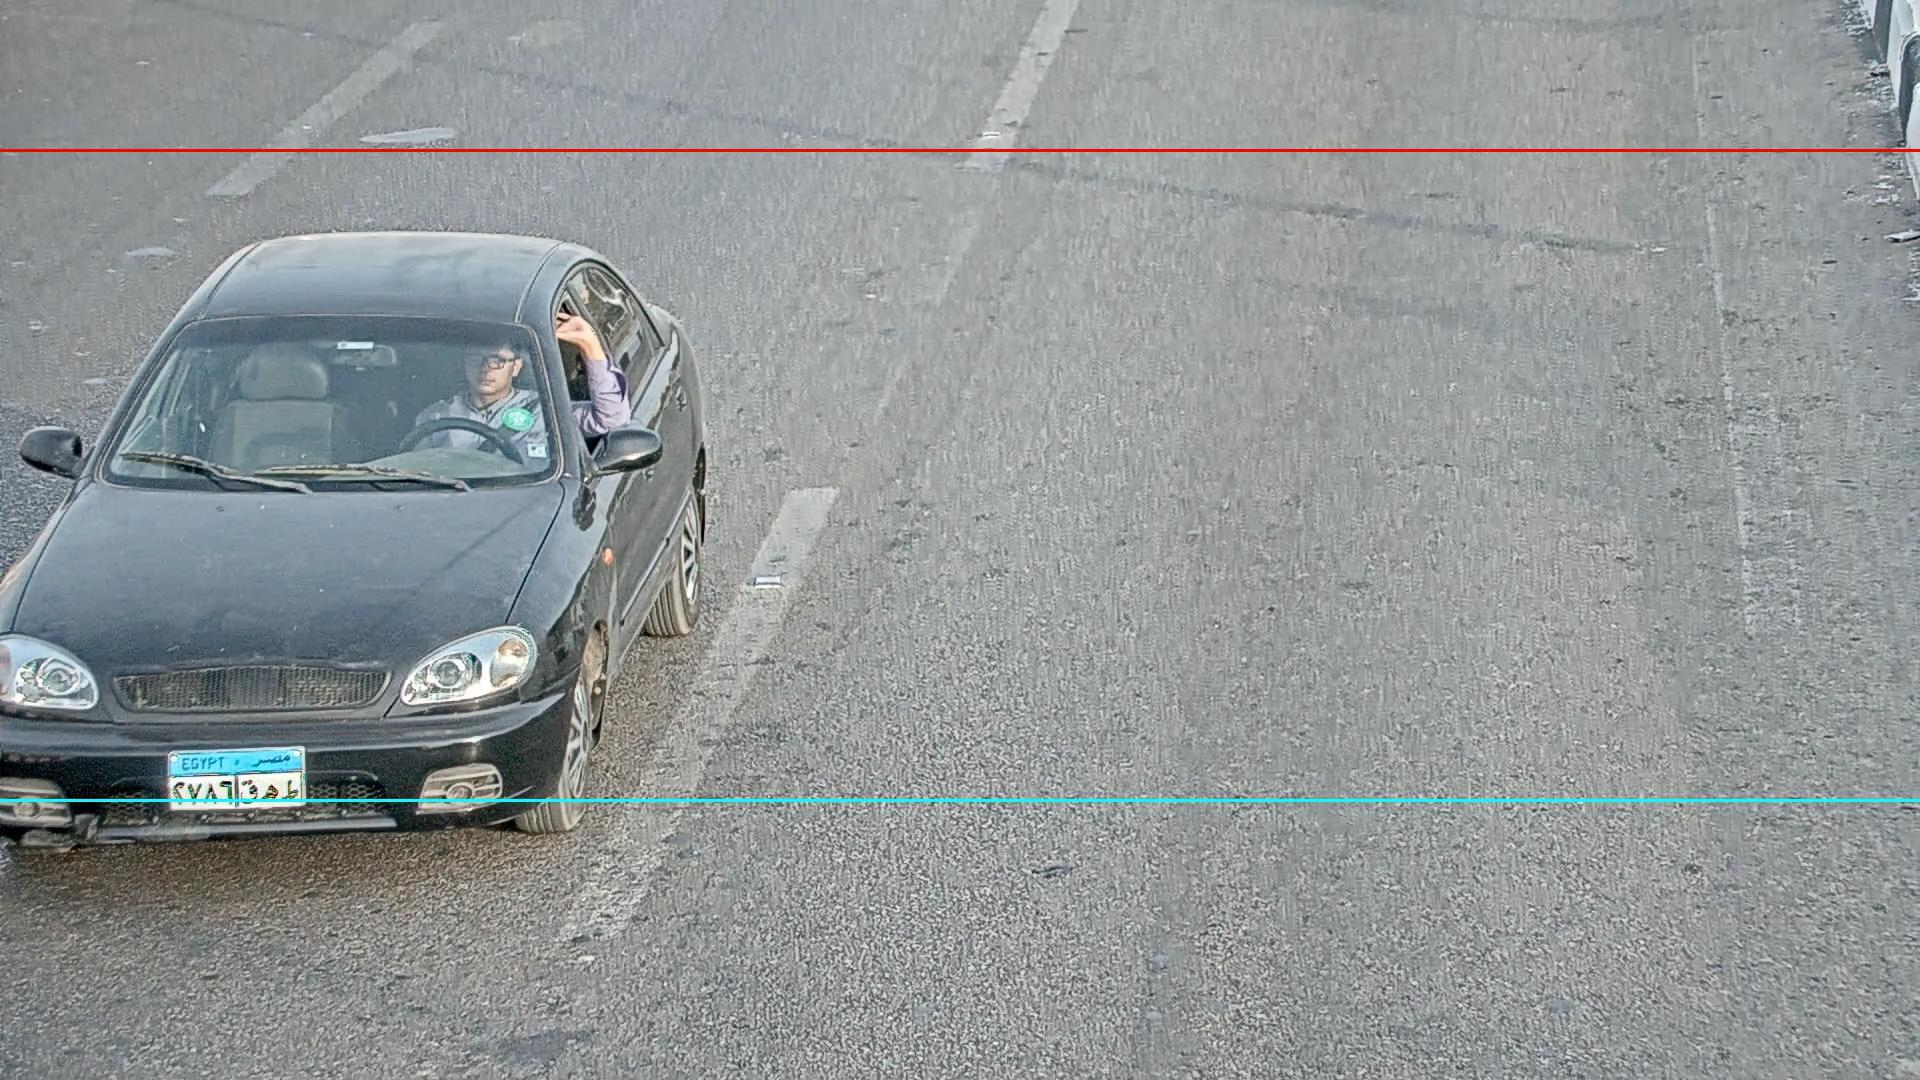windshield: (80, 293, 567, 504)
